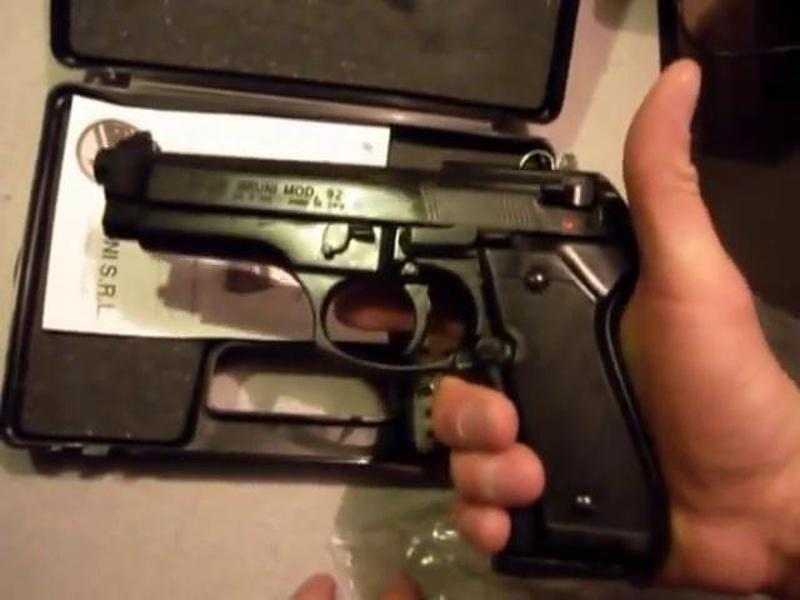Pistola: (66, 85, 676, 573)
